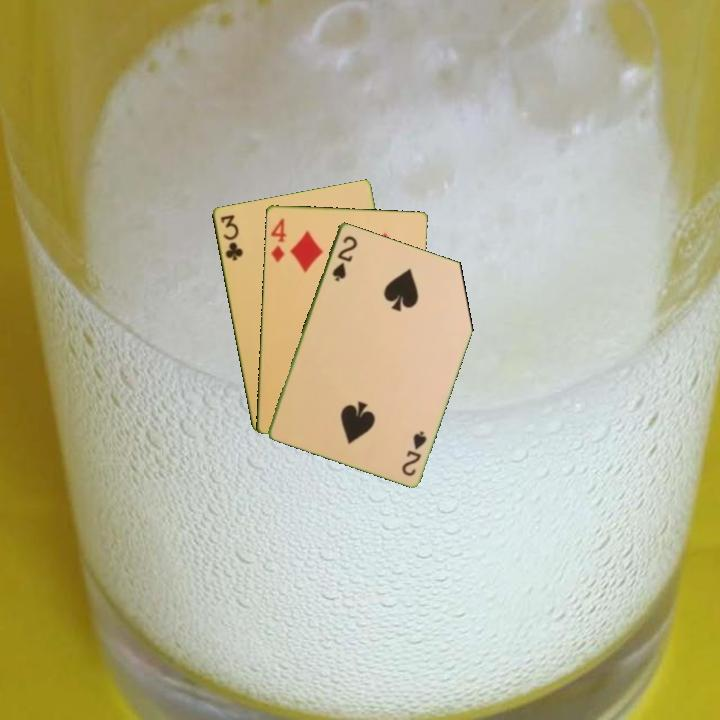2s: (328, 232, 360, 284), (398, 427, 429, 479)
3c: (217, 211, 245, 263)
4d: (267, 214, 289, 265)
